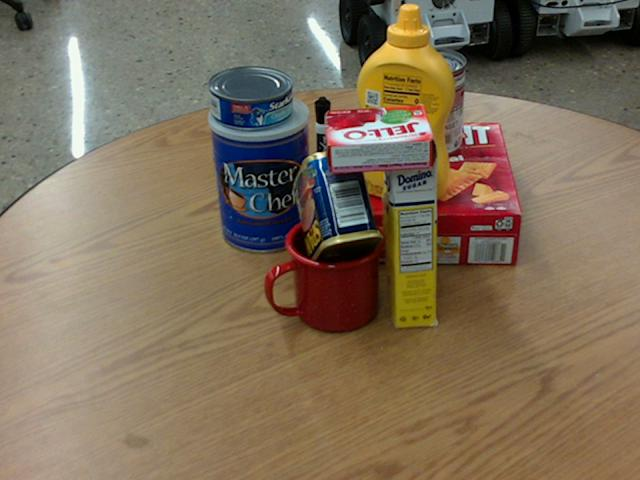cracker_box: (359, 121, 519, 264)
gelatin_box: (325, 103, 434, 172)
large_marker: (313, 98, 331, 197)
master_chef_can: (208, 91, 313, 251)
mug: (261, 214, 382, 333)
mustard_bottle: (355, 4, 455, 201)
potted_meat_can: (292, 149, 383, 270)
sugar_box: (380, 116, 435, 329)
tomato_soup_can: (402, 48, 465, 156)
tuna_fish_can: (207, 65, 292, 128)
